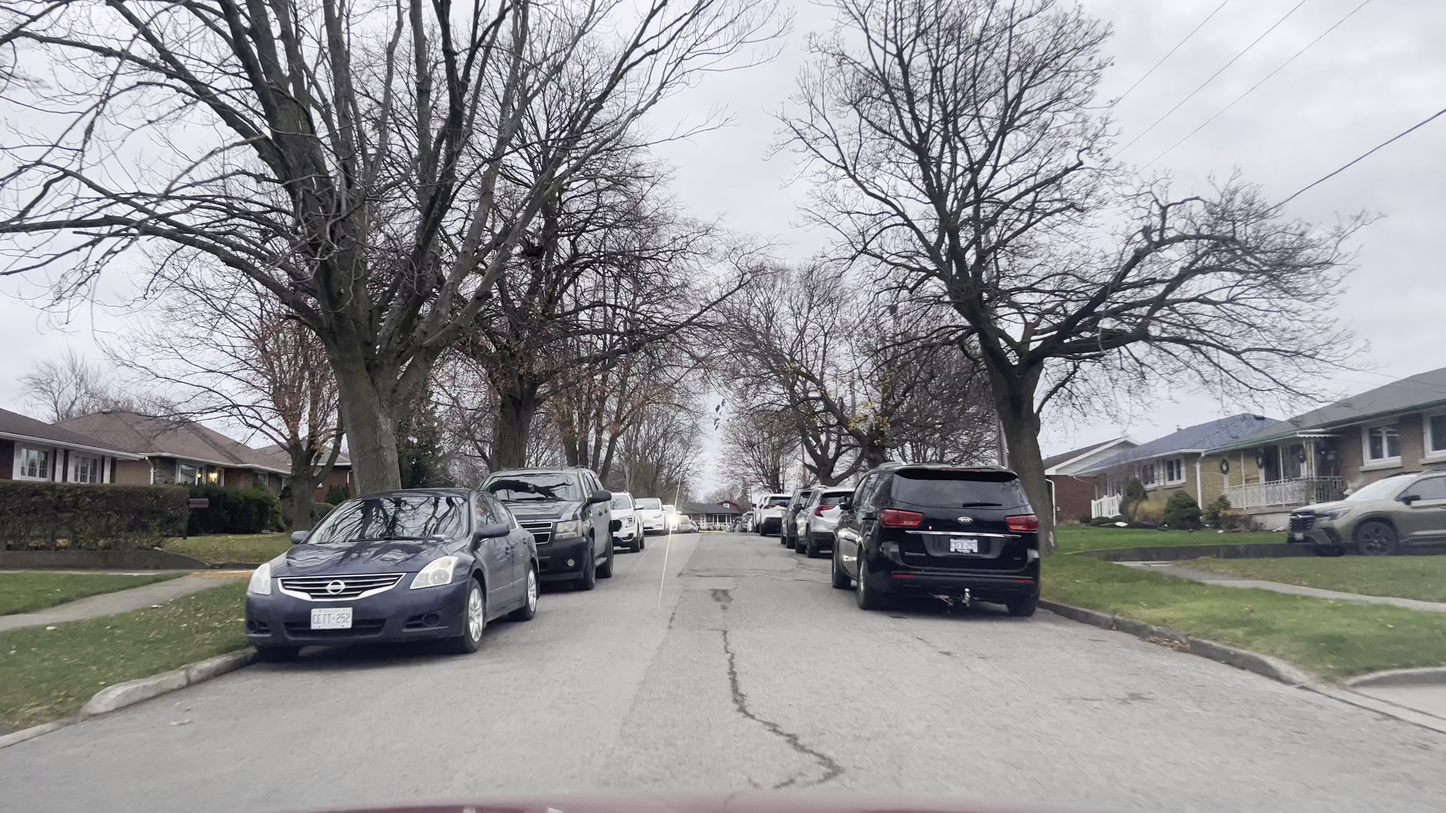cracks: (759, 730, 852, 778), (710, 635, 761, 720)
